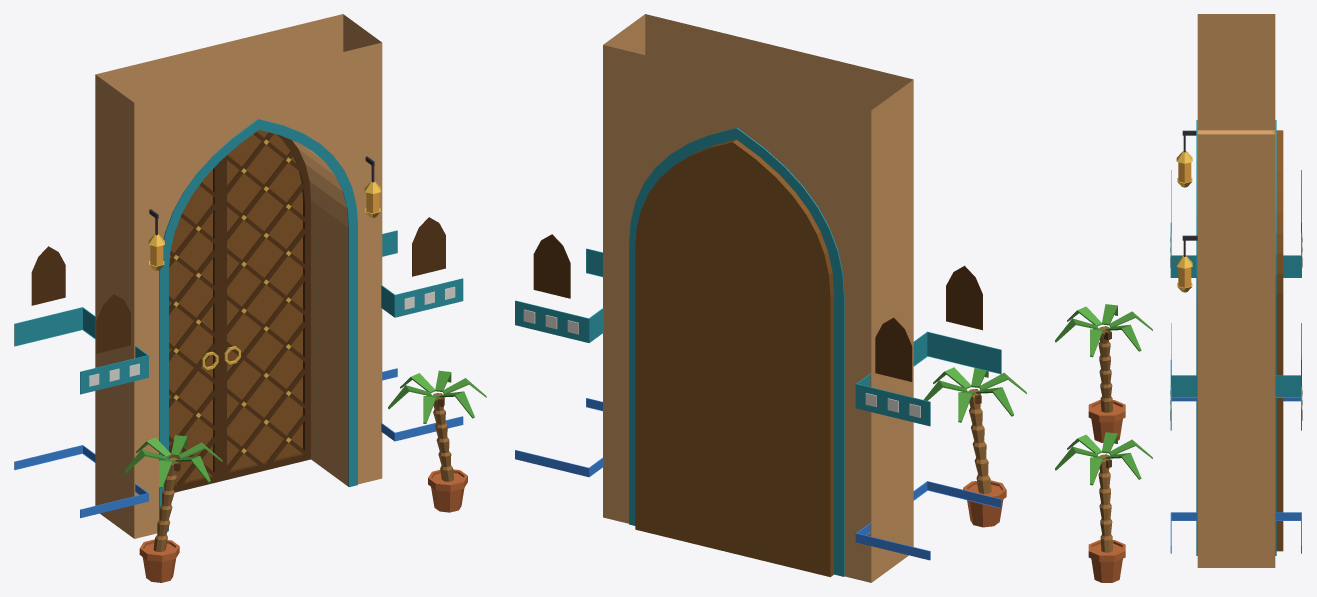
Rendered from w4_gate.fbx.
3 renders of one model, left to right at view 1: azimuth 30°, elevation 25°; view 2: azimuth 150°, elevation 25°; view 3: azimuth 270°, elevation 25°, orthographic. The views are drawn at different scales.
Parts seen in each view (by area): view 1: World4Gate.ArchWall, World4Gate.DoorLeft, World4Gate.Trim, World4Gate.DoorLeftLattice, World4Gate.DoorRight, World4Gate.DoorRightLattice, World4Gate.Windows, World4Gate.Pots, World4Gate.TileBlue, World4Gate.Trunks, World4Gate.Fronds, World4Gate.FrondsLight (+1 smaller); view 2: World4Gate.ArchWall, World4Gate.DoorRight, World4Gate.DoorLeft, World4Gate.Trim, World4Gate.Windows, World4Gate.TileBlue, World4Gate.Trunks, World4Gate.Pots, World4Gate.TileWhite, World4Gate.FrondsLight, World4Gate.Fronds; view 3: World4Gate.ArchWall, World4Gate.Trim, World4Gate.DoorLeft, World4Gate.Pots, World4Gate.Trunks, World4Gate.Fronds, World4Gate.FrondsLight, World4Gate.TileBlue, World4Gate.LanternGlass, World4Gate.Gold.
Boxes of the visible parts, box(x1,y1,x2,y2) form: World4Gate.ArchWall: box(95, 14, 382, 538); World4Gate.DoorLeft: box(227, 130, 302, 470); World4Gate.Trim: box(14, 119, 463, 531); World4Gate.DoorLeftLattice: box(221, 132, 310, 481); World4Gate.DoorRight: box(169, 169, 212, 484); World4Gate.DoorRightLattice: box(169, 161, 220, 492); World4Gate.Windows: box(31, 217, 445, 353); World4Gate.Pots: box(139, 469, 467, 582); World4Gate.TileBlue: box(14, 368, 463, 518); World4Gate.Trunks: box(153, 393, 453, 551); World4Gate.Fronds: box(124, 370, 474, 482); World4Gate.FrondsLight: box(136, 373, 486, 488); World4Gate.ArchWall: box(603, 14, 913, 582); World4Gate.DoorRight: box(733, 139, 833, 577); World4Gate.DoorLeft: box(635, 139, 735, 553); World4Gate.Trim: box(515, 128, 1001, 576); World4Gate.Windows: box(533, 234, 982, 381); World4Gate.TileBlue: box(515, 398, 1001, 560); World4Gate.Trunks: box(969, 389, 991, 493); World4Gate.Pots: box(963, 480, 1006, 527); World4Gate.TileWhite: box(523, 309, 920, 417); World4Gate.FrondsLight: box(933, 367, 1026, 422); World4Gate.Fronds: box(923, 368, 1013, 416); World4Gate.ArchWall: box(1197, 14, 1275, 567); World4Gate.Trim: box(1170, 120, 1301, 555); World4Gate.DoorLeft: box(1276, 130, 1283, 551); World4Gate.Pots: box(1088, 400, 1125, 582); World4Gate.Trunks: box(1098, 326, 1112, 552); World4Gate.Fronds: box(1055, 304, 1141, 479); World4Gate.FrondsLight: box(1067, 306, 1152, 485); World4Gate.TileBlue: box(1170, 360, 1301, 553); World4Gate.LanternGlass: box(1178, 162, 1191, 287); World4Gate.Gold: box(1176, 151, 1192, 292).
Bounding box in the file's own units: 34 × 37 × 19.17.
